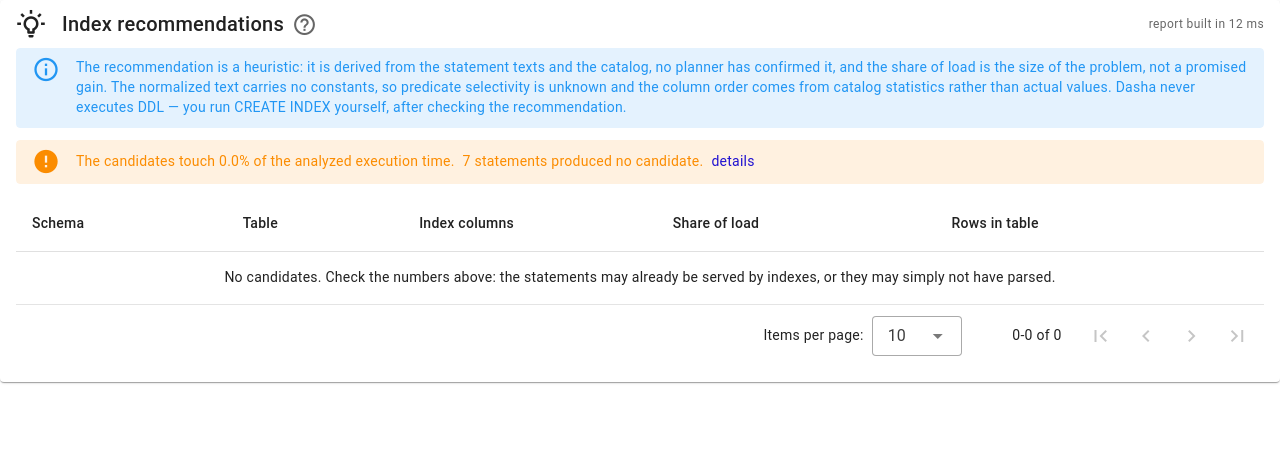
it: IndexAdvisorSection › shows the unparsed count without being expanded
Click the link "details": (733, 162) [711,152,755,172]
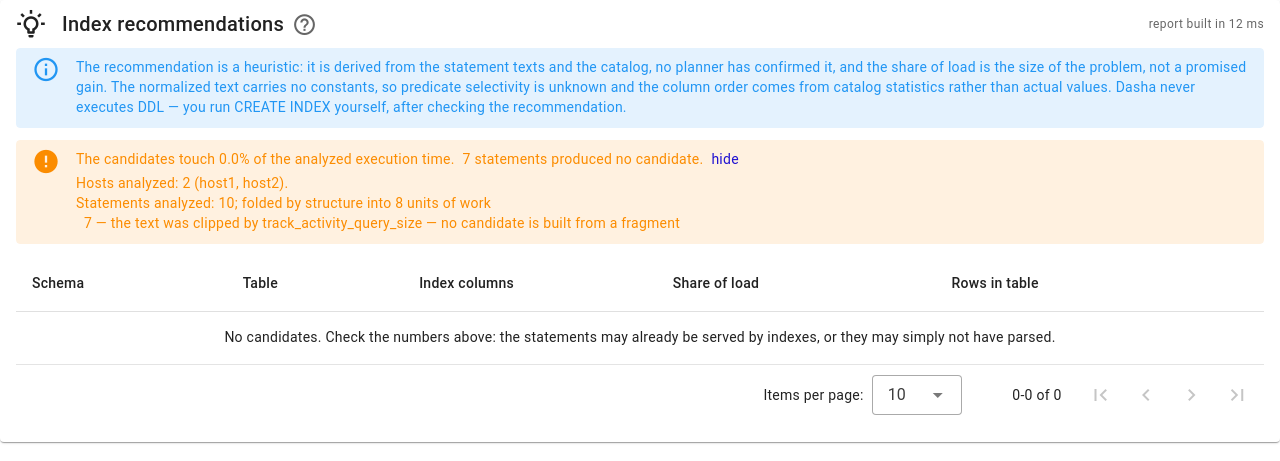
expect the text "the text was clipped by track_activity_query_size — no candidate is built from a fragment" is shown: met, box [84,215,680,231]
